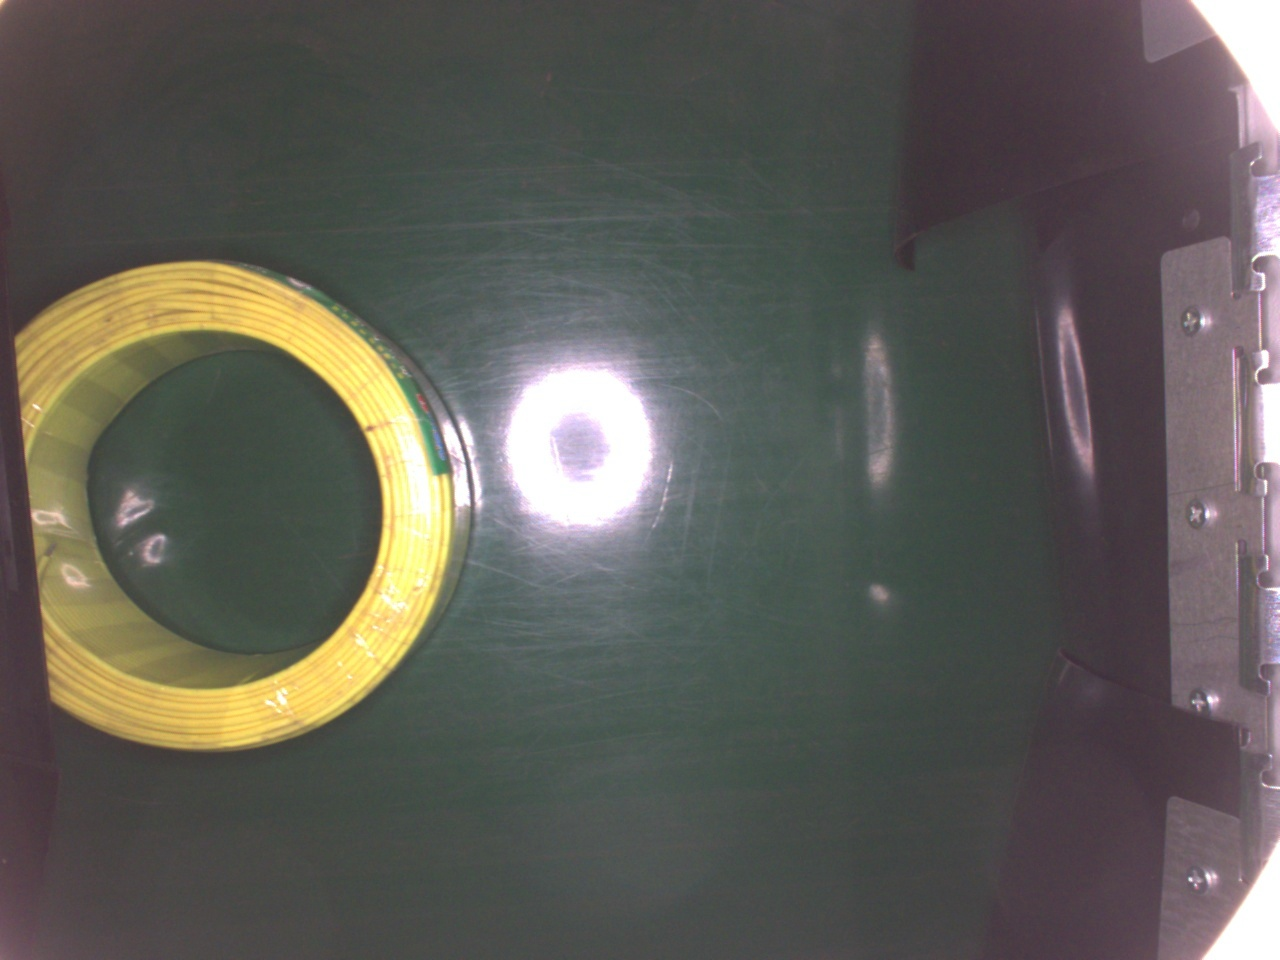yellow: (13, 257, 471, 753)
